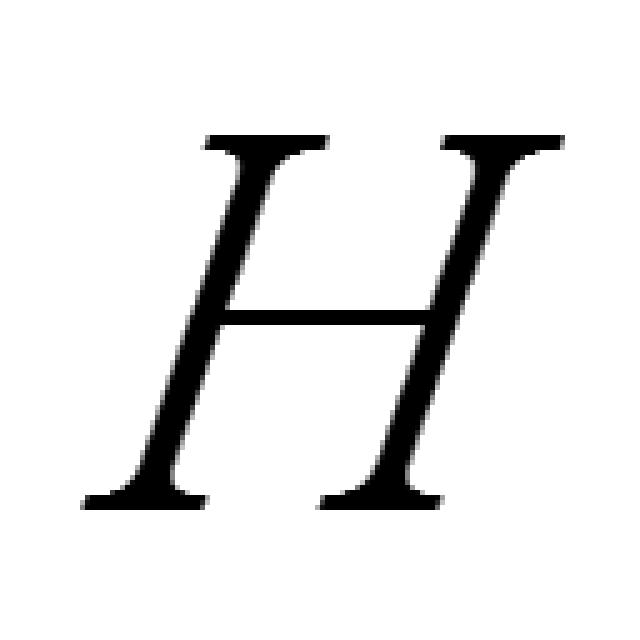H: (80, 135, 565, 515)
